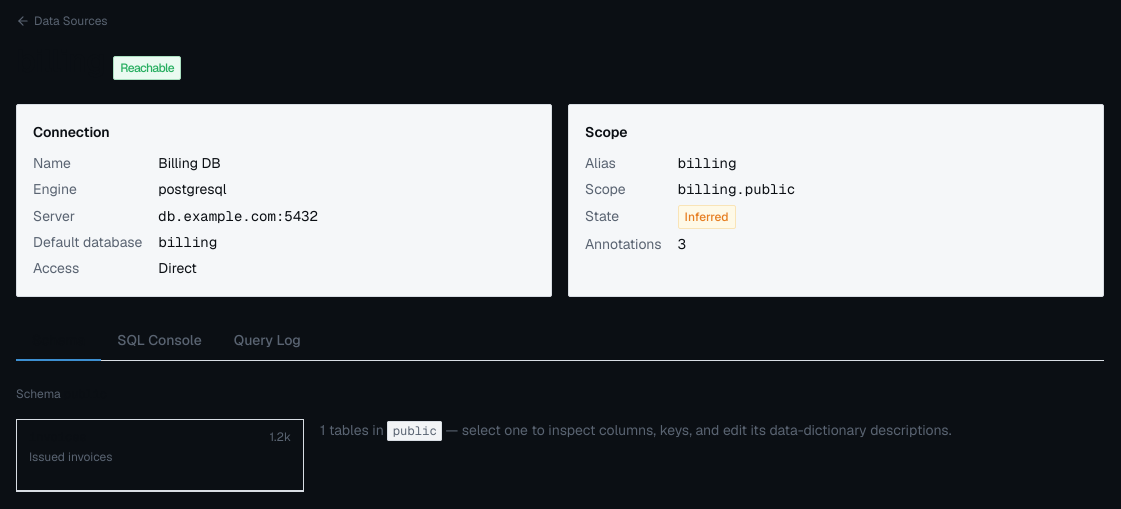
Test: Data source detail › shows the schema of each query in the log
Press the mouse on the tab "Query Log": (267, 341) [218,321,317,361]
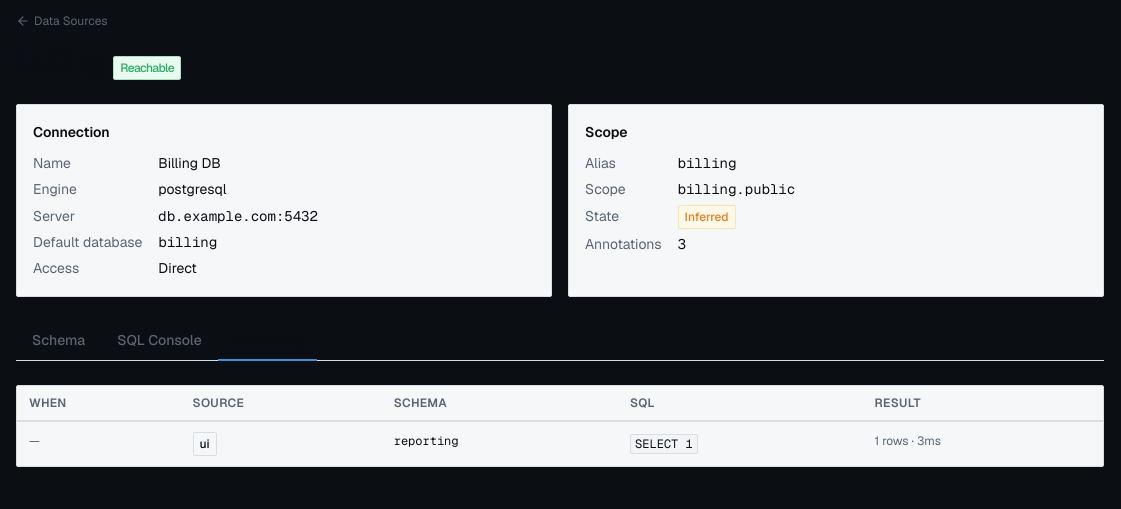
Expected: the text "reporting" is shown, [382,421,618,466]
